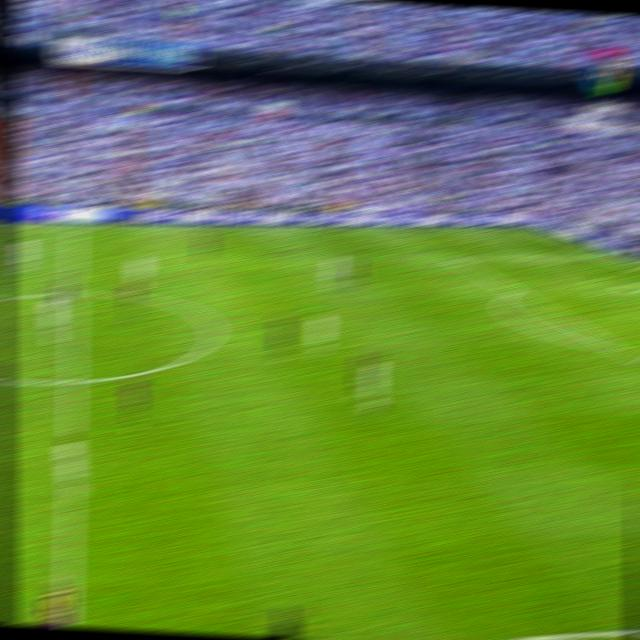corner: (526, 226, 544, 235)
halfcircle_bottom: (61, 365, 85, 396)
halfcircle_top: (64, 281, 84, 303)
midline_top_intersection: (65, 224, 85, 236)
top_arc_area_intersection: (505, 284, 523, 298)
